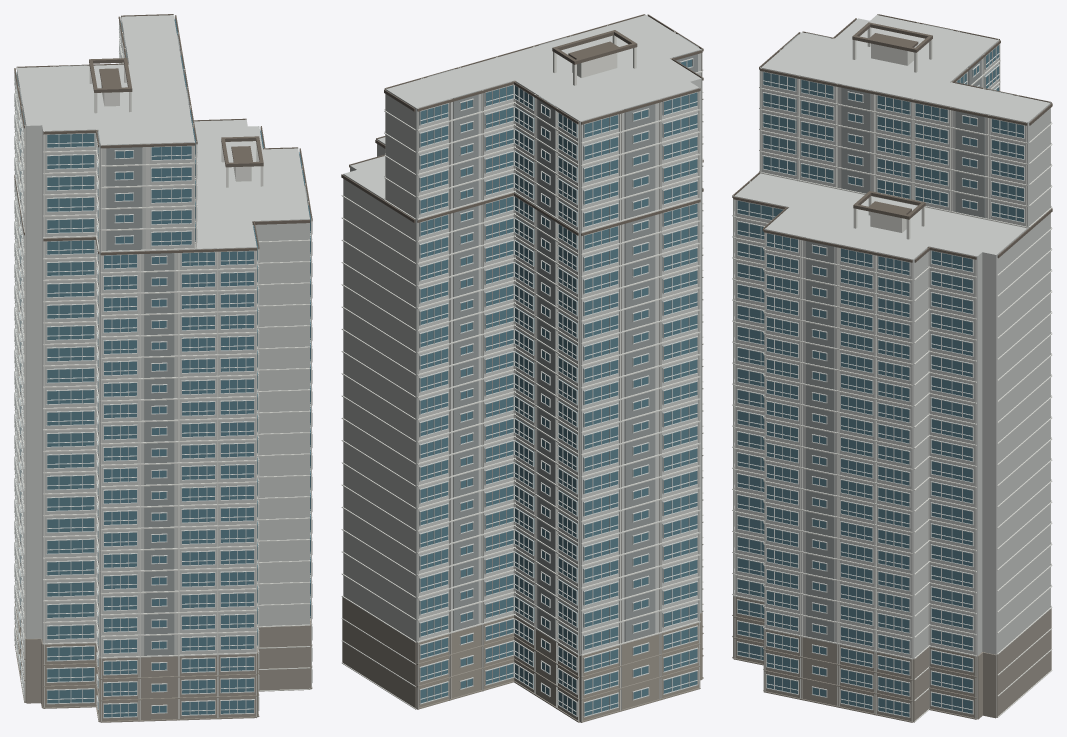
The model's file is bespoke-banpo-xi-129.glb.
The picture shows the model from 3 angles, left to right: view 1: azimuth 30°, elevation 25°; view 2: azimuth 150°, elevation 25°; view 3: azimuth 270°, elevation 25°; orthographic projection. The views are drawn at different scales.
Parts seen in each view (by area): view 1: editable_BX129_pale_silver_limestone, editable_BX129_blue_grey_broad_glazing, editable_BX129_white_window_frames, editable_BX129_ivory_course_bands, editable_BX129_grey_service_core, editable_BX129_warm_ground_stone, editable_BX129_dark_coping; view 2: editable_BX129_pale_silver_limestone, editable_BX129_blue_grey_broad_glazing, editable_BX129_white_window_frames, editable_BX129_ivory_course_bands, editable_BX129_grey_service_core, editable_BX129_warm_ground_stone, editable_BX129_dark_coping; view 3: editable_BX129_pale_silver_limestone, editable_BX129_blue_grey_broad_glazing, editable_BX129_white_window_frames, editable_BX129_ivory_course_bands, editable_BX129_grey_service_core, editable_BX129_warm_ground_stone, editable_BX129_dark_coping.
Boxes of the visible parts, x1,y1,x2,y2 form: editable_BX129_pale_silver_limestone: [17, 15, 309, 657]; editable_BX129_blue_grey_broad_glazing: [16, 19, 310, 717]; editable_BX129_white_window_frames: [14, 21, 312, 718]; editable_BX129_ivory_course_bands: [14, 15, 312, 722]; editable_BX129_grey_service_core: [19, 34, 307, 655]; editable_BX129_warm_ground_stone: [14, 601, 312, 722]; editable_BX129_dark_coping: [14, 14, 312, 255]; editable_BX129_pale_silver_limestone: [343, 15, 701, 721]; editable_BX129_blue_grey_broad_glazing: [419, 59, 697, 716]; editable_BX129_white_window_frames: [419, 58, 698, 717]; editable_BX129_ivory_course_bands: [341, 14, 703, 721]; editable_BX129_grey_service_core: [427, 34, 698, 641]; editable_BX129_warm_ground_stone: [342, 597, 703, 722]; editable_BX129_dark_coping: [341, 14, 703, 235]; editable_BX129_pale_silver_limestone: [734, 15, 1050, 718]; editable_BX129_blue_grey_broad_glazing: [737, 45, 1023, 716]; editable_BX129_white_window_frames: [734, 44, 1024, 717]; editable_BX129_ivory_course_bands: [732, 14, 1052, 721]; editable_BX129_grey_service_core: [783, 24, 1013, 642]; editable_BX129_warm_ground_stone: [732, 596, 1051, 722]; editable_BX129_dark_coping: [732, 14, 1052, 262].
Bounding box in the file's own units: 39.22 × 76.5 × 37.6.
